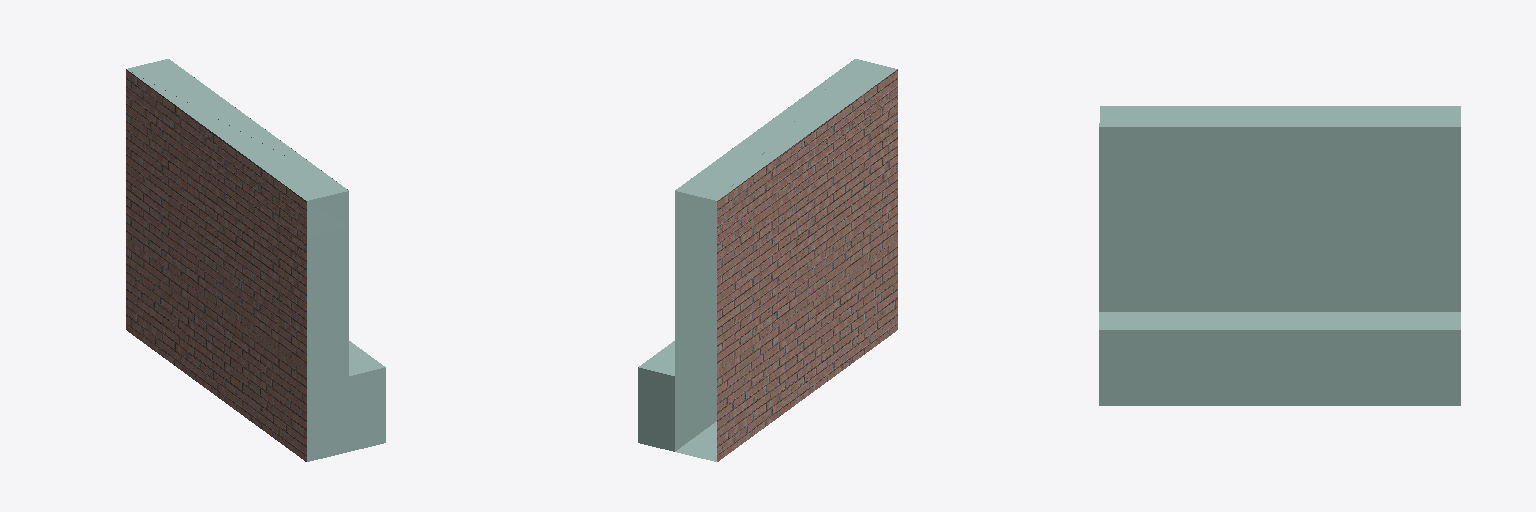
The picture shows the model from 3 angles: view 1: azimuth 30°, elevation 25°; view 2: azimuth 150°, elevation 25°; view 3: azimuth 270°, elevation 25°; orthographic projection.
Parts seen in each view (by area): view 1: PareteSinistra_001_Cube.002; view 2: PareteSinistra_001_Cube.002; view 3: PareteSinistra_001_Cube.002.
Boxes of the visible parts, x1=… form: PareteSinistra_001_Cube.002: x1=126, y1=59, x2=385, y2=461; PareteSinistra_001_Cube.002: x1=638, y1=59, x2=897, y2=461; PareteSinistra_001_Cube.002: x1=1099, y1=106, x2=1460, y2=405.
Size of the model in its own units: 0.7296 by 2.3 by 2.88.
Materials: 2 (1 with a texture image).